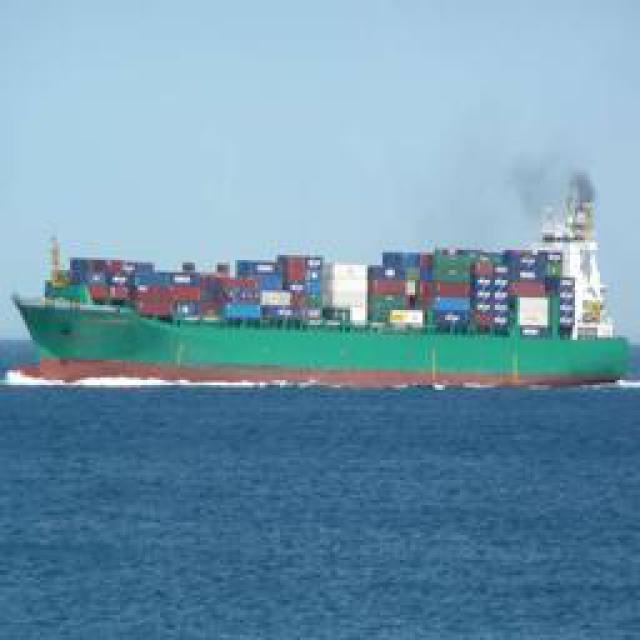Ship: (21, 197, 629, 380)
